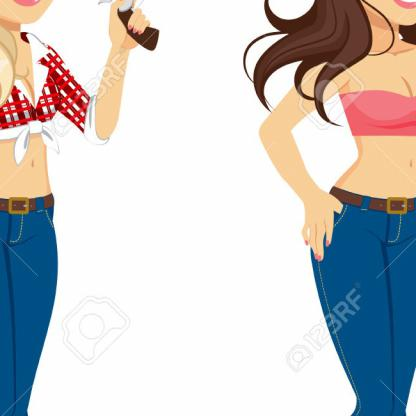gun: (100, 0, 162, 55)
